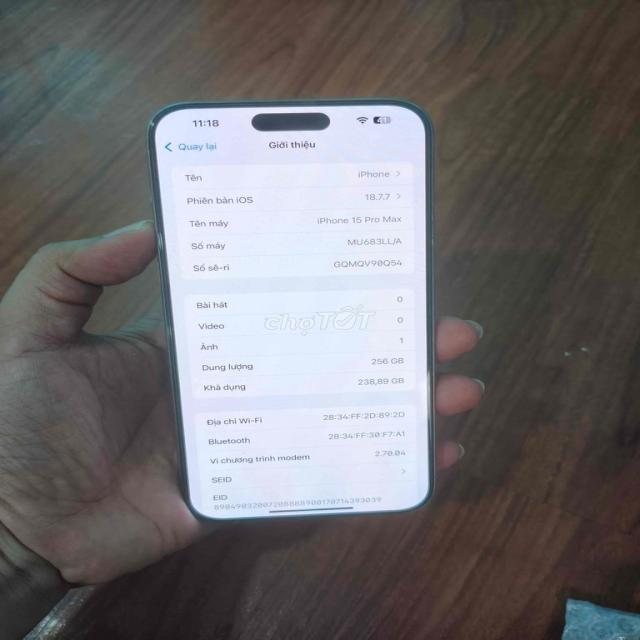gen_15: (132, 88, 453, 532)
